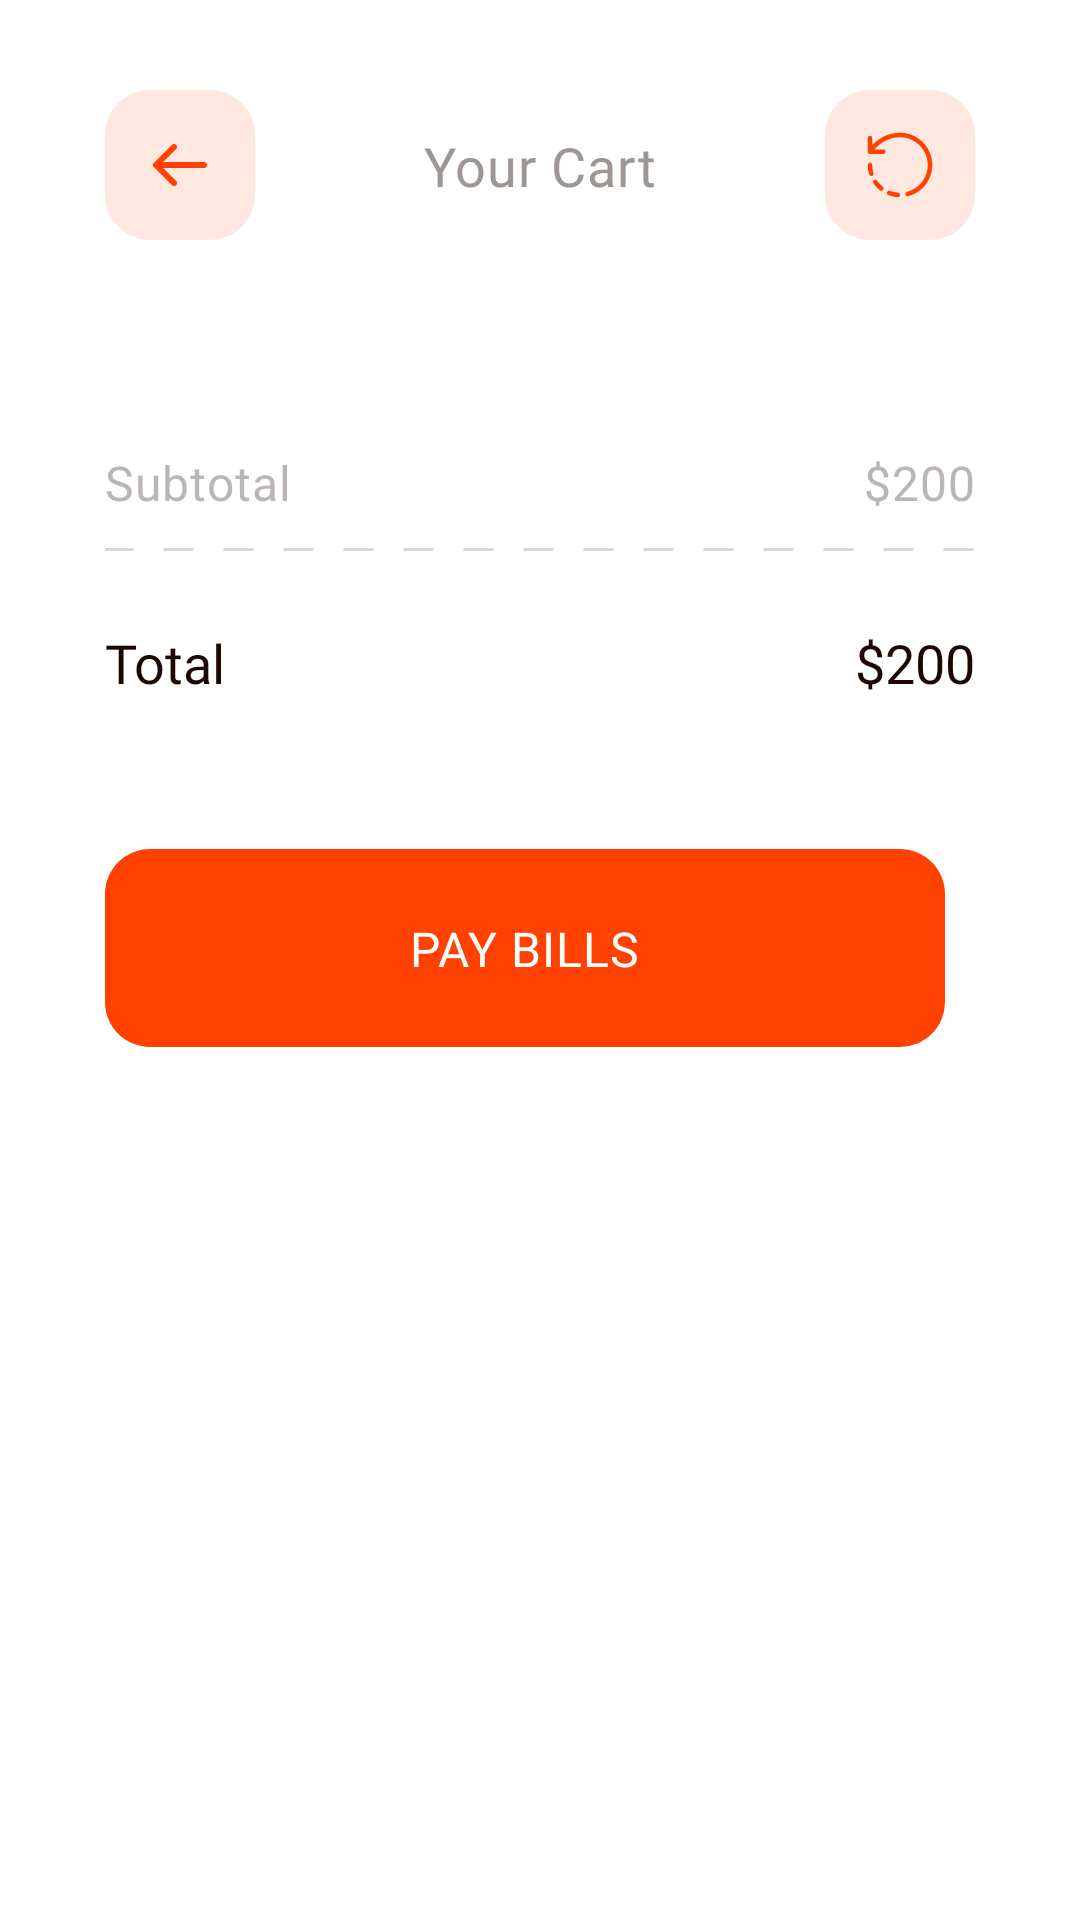

Icon bounding boxes for this 1080w x 1920h phone screenshot, format (x1, y1, x2, y2):
back: (105, 90, 255, 240)
load: (825, 90, 975, 240)
